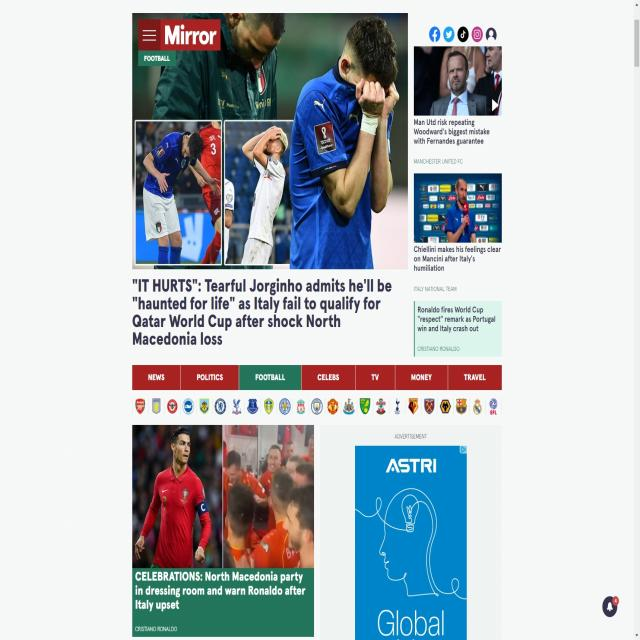menu-bar: (137, 17, 220, 50)
menu-panel: (128, 362, 503, 392)
